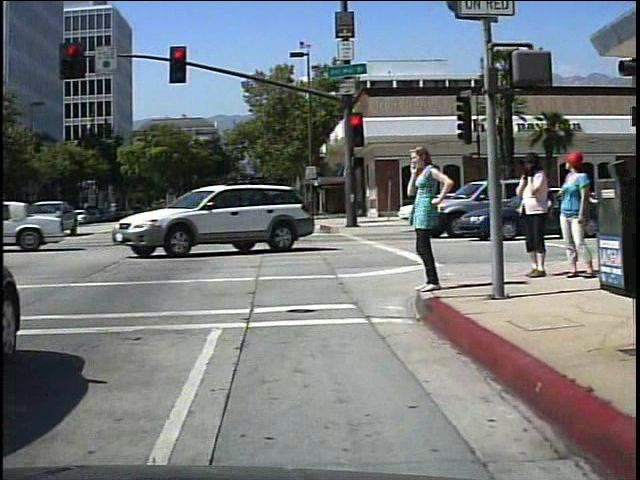person: (402, 142, 451, 297), (508, 148, 552, 281), (551, 146, 595, 278)
